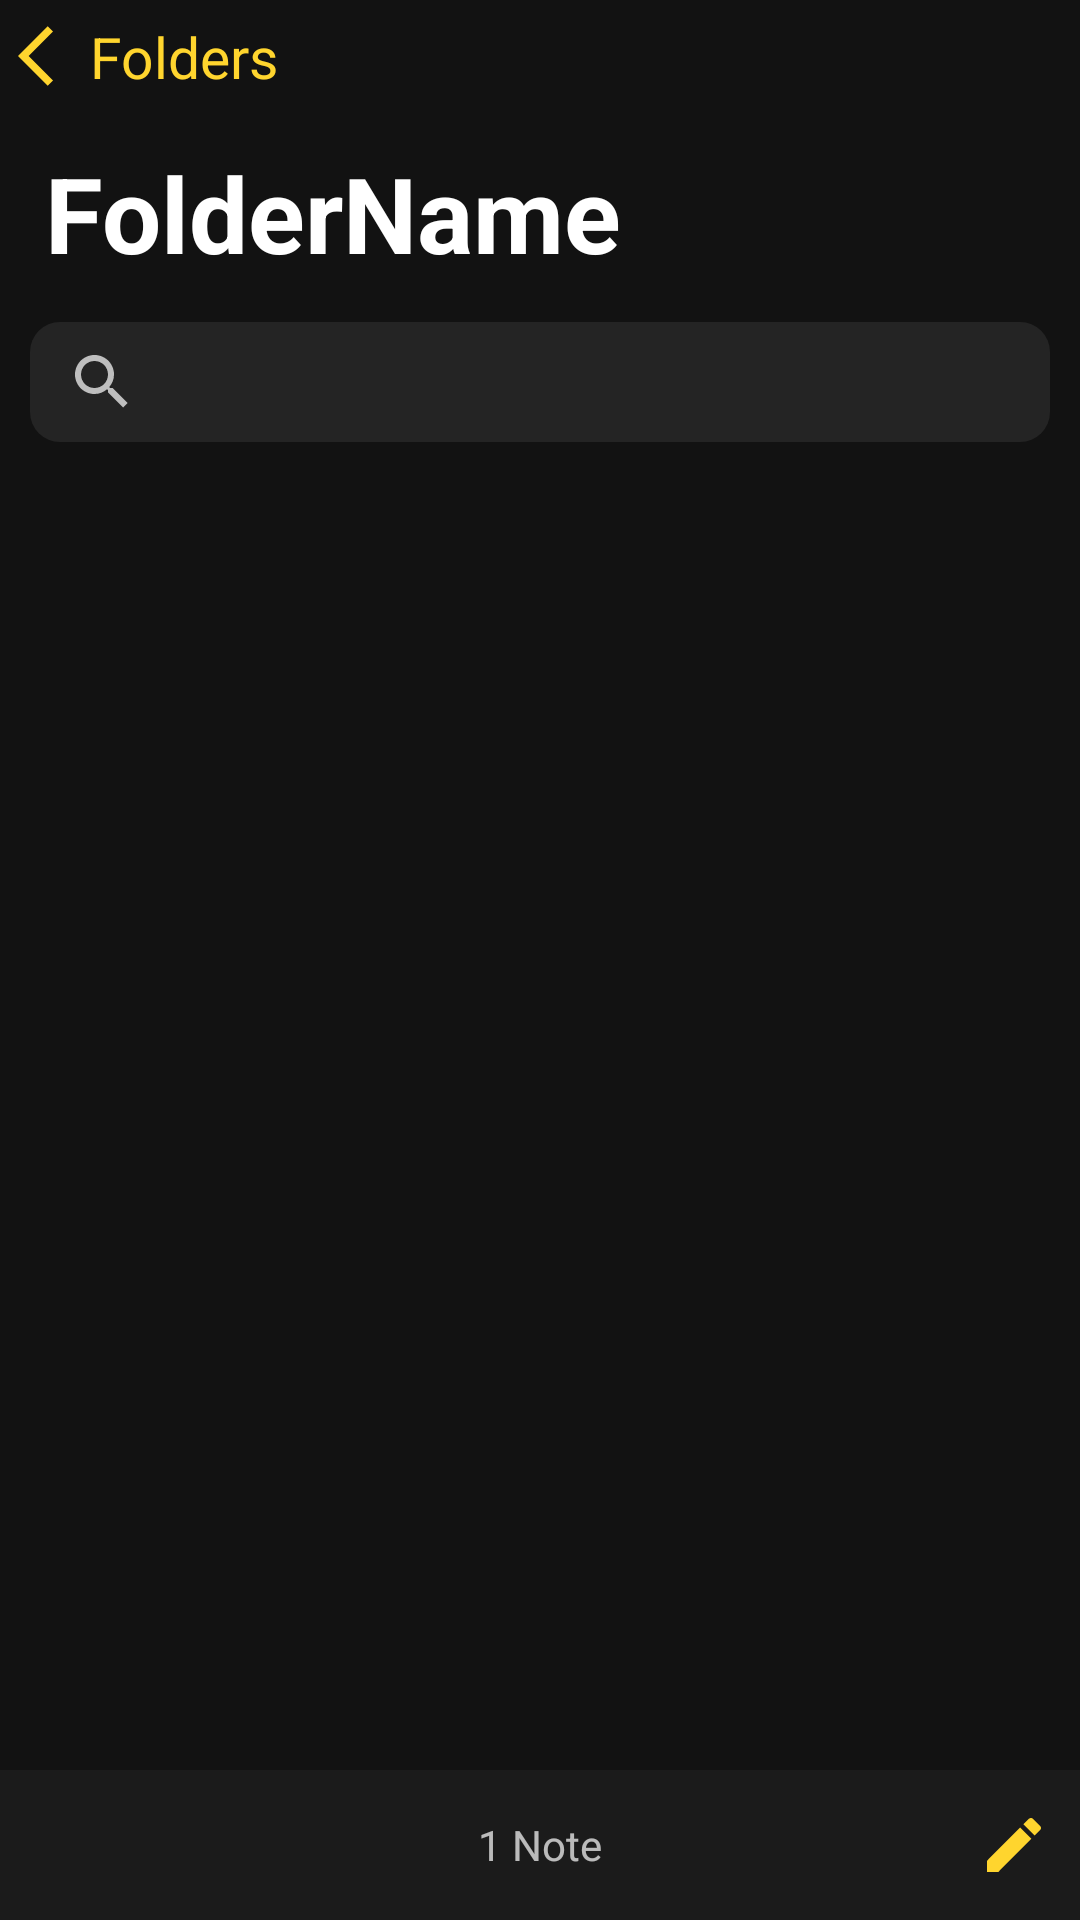

Where icons sit on this 1080x1920 app screen, as (x1, y1, x2, y2):
create: (987, 1818, 1041, 1872)
